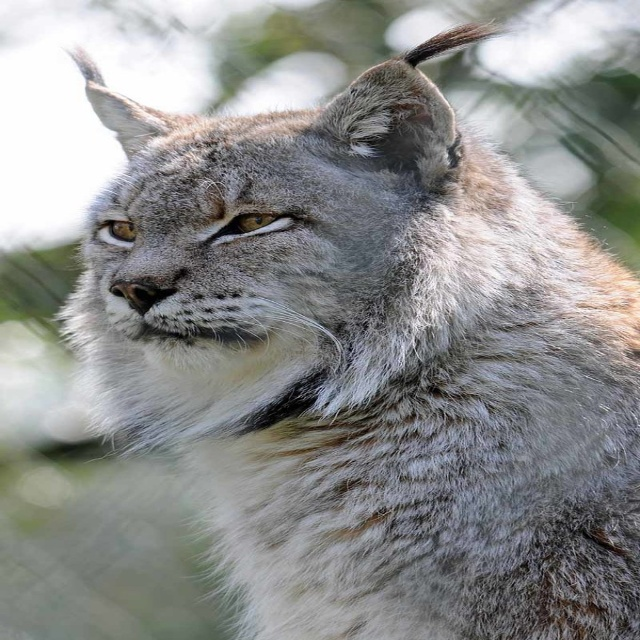Lynx: (58, 16, 639, 639)
